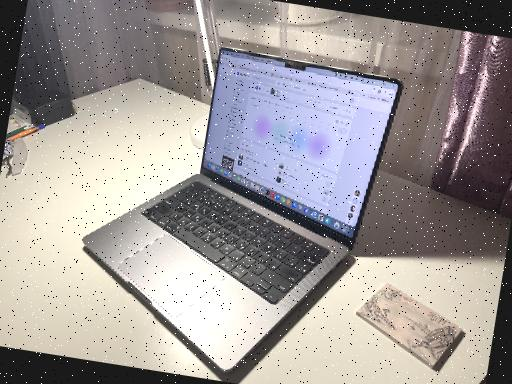vk: (196, 56, 380, 222)
